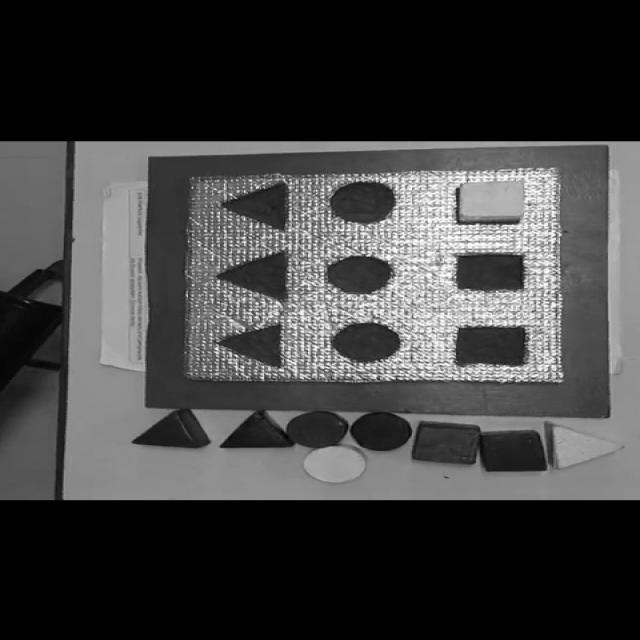bcircle: (350, 412, 412, 451)
bcube: (478, 429, 550, 473)
btriangle: (220, 410, 292, 448)
mtcircle: (328, 182, 396, 224), (332, 322, 402, 362), (326, 254, 394, 294)
mtcube: (453, 325, 532, 366), (453, 252, 528, 292)
mttriangle: (214, 252, 290, 302), (219, 181, 291, 230), (216, 322, 287, 368)
rcircle: (286, 410, 347, 448)
rcube: (411, 420, 482, 464)
rtriangle: (131, 409, 207, 449)
wb: (180, 166, 566, 381)
ycircle: (301, 443, 370, 483)
ycube: (457, 180, 527, 224)
ytriangle: (545, 422, 624, 470)
